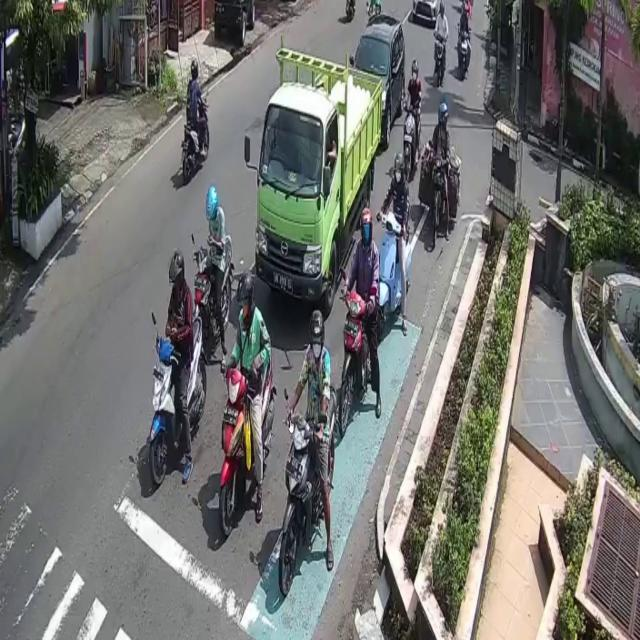car: (351, 14, 406, 142)
motorbike: (279, 383, 339, 596), (148, 313, 208, 488), (221, 349, 276, 537), (339, 294, 380, 434), (190, 234, 233, 344), (376, 210, 409, 334), (182, 93, 212, 185), (431, 156, 448, 248), (403, 101, 419, 180), (432, 32, 448, 87), (460, 28, 470, 79)
truck: (256, 45, 384, 313)
